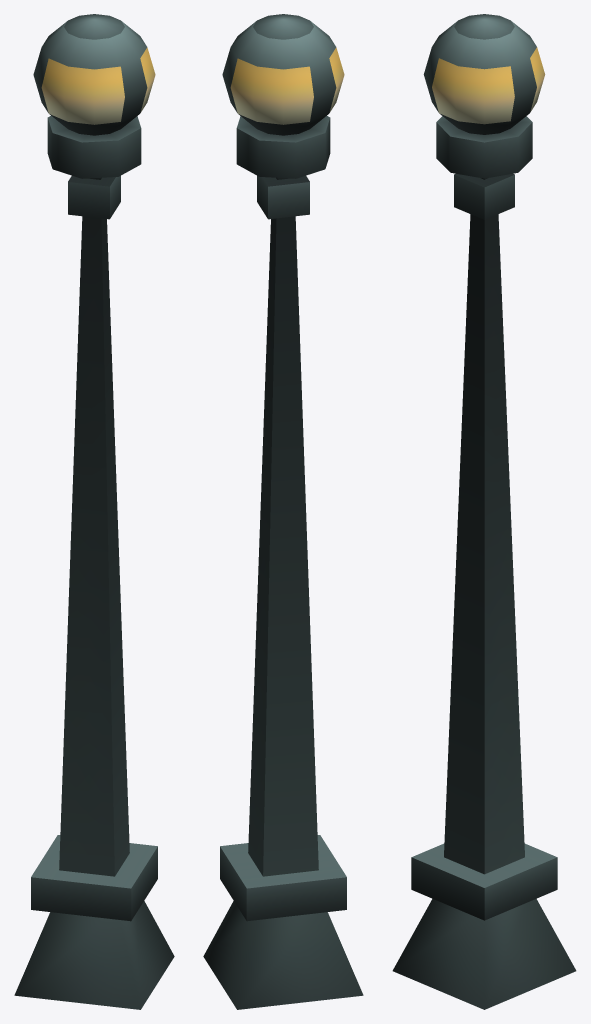
The model's file is Streetlight_1B.fbx.
3 renders of one model, left to right at view 1: azimuth 30°, elevation 25°; view 2: azimuth 150°, elevation 25°; view 3: azimuth 270°, elevation 25°, orthographic.
Visible parts, largest first — view 1: Streetlight_1B; view 2: Streetlight_1B; view 3: Streetlight_1B.
Boxes of the visible parts, bbox=[...] form: Streetlight_1B: bbox=[14, 14, 174, 1009]; Streetlight_1B: bbox=[203, 14, 363, 1009]; Streetlight_1B: bbox=[392, 14, 576, 1009].
Bounding box in the file's own units: 1.03 × 5.85 × 1.03.
